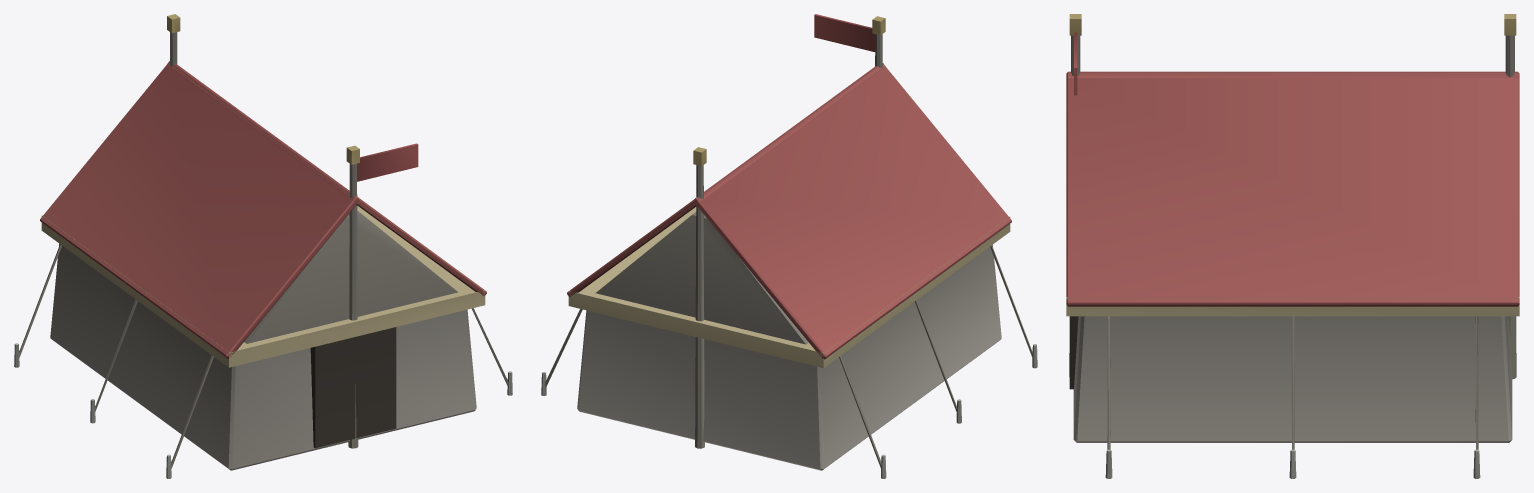
File: camp_tent_l1_lod1.glb
3 views of the same model, side by side, from view 1: azimuth 30°, elevation 25°; view 2: azimuth 150°, elevation 25°; view 3: azimuth 270°, elevation 25° (orthographic). The views are drawn at different scales.
Visible parts, largest first — view 1: camp_tent_l1_lod1; view 2: camp_tent_l1_lod1; view 3: camp_tent_l1_lod1.
Part boxes in pixels (x1,y1,x2,y2): camp_tent_l1_lod1: (14, 14, 512, 478); camp_tent_l1_lod1: (541, 14, 1037, 478); camp_tent_l1_lod1: (1066, 14, 1519, 478).
Size of the model in its own units: 5.77 by 4.76 by 5.42.
